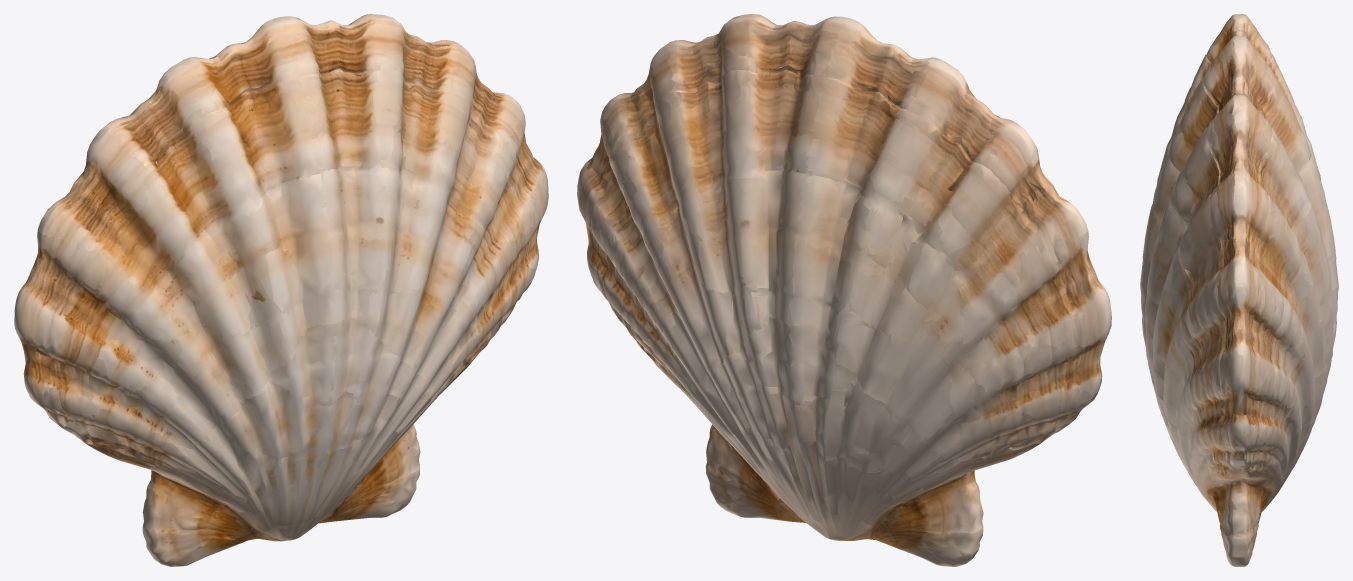
File: upm_muprjre63m2.glb
3 renders of one model, left to right at view 1: azimuth 30°, elevation 25°; view 2: azimuth 150°, elevation 25°; view 3: azimuth 270°, elevation 25°, orthographic. The views are drawn at different scales.
Size of the model in its own units: 1.9 by 1.78 by 0.6686.
1 material, 1 textured.
